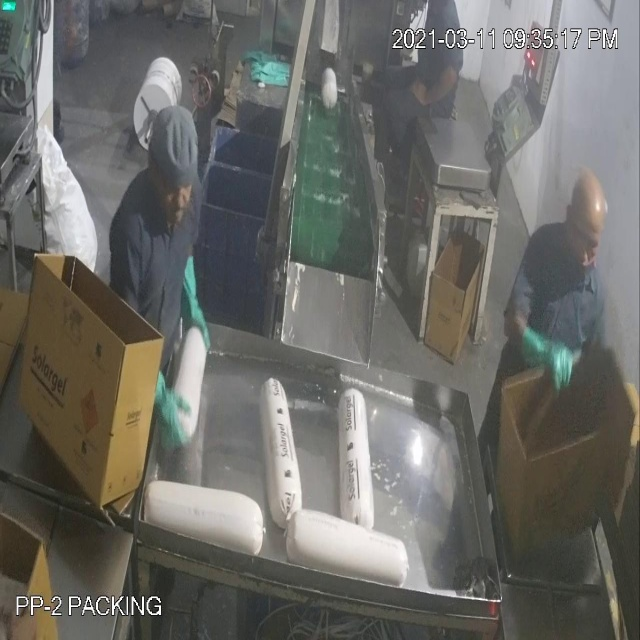Guantes: (510, 324, 577, 398), (179, 245, 212, 363)
Sin_guantes: (407, 59, 459, 113)
